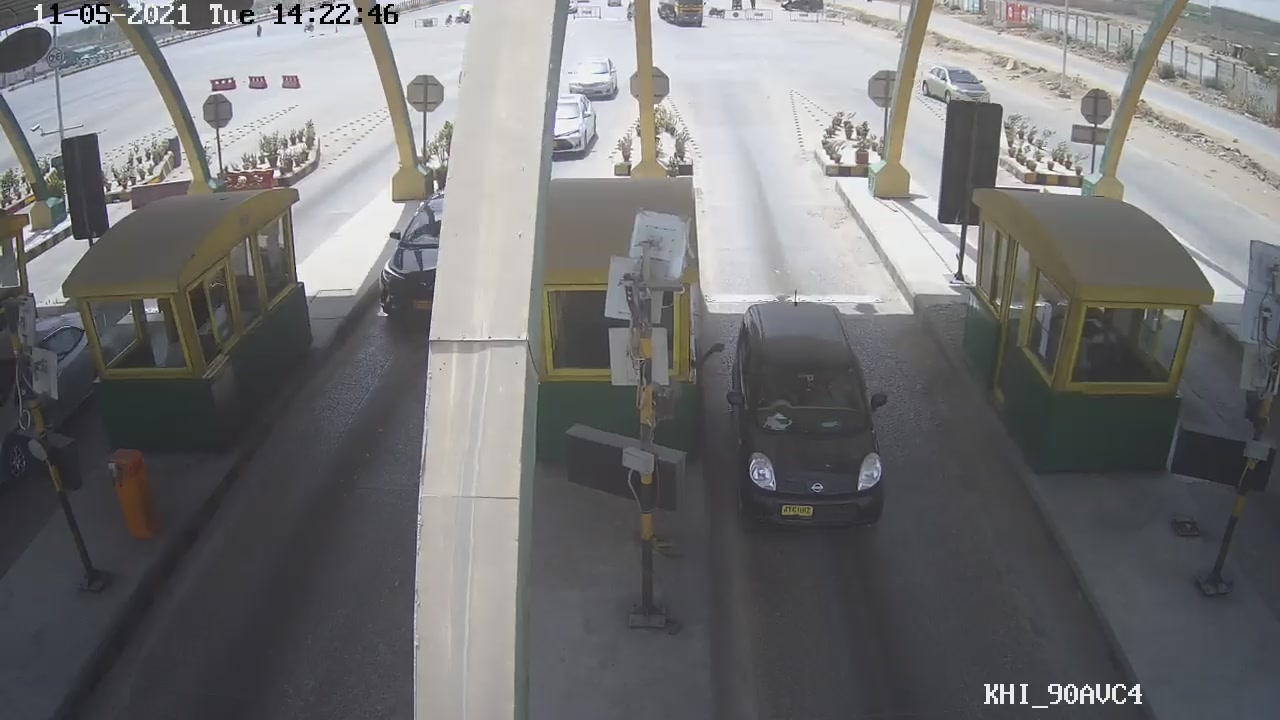F1: (723, 297, 896, 535)
